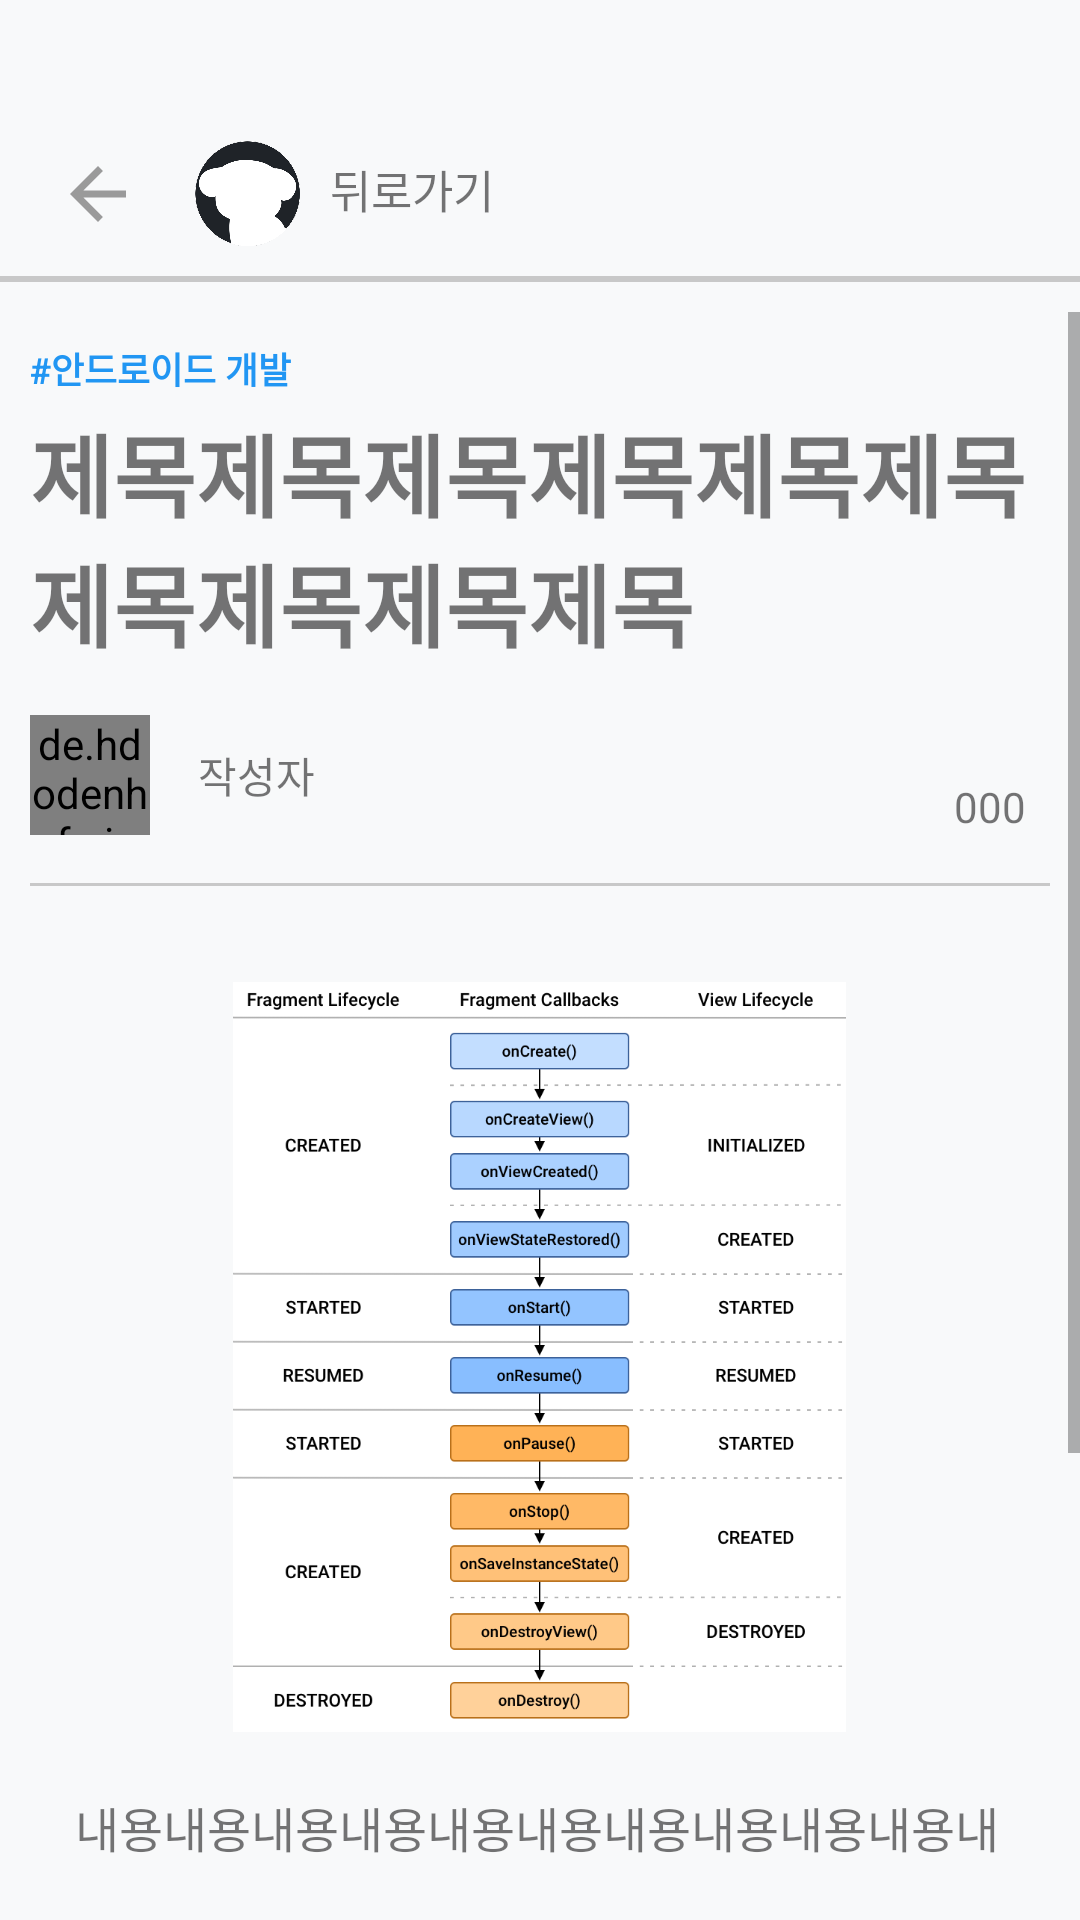

Locate icon controls on the screen. Image size 1080 x 1920, boxes as (x1=x1, y1=y1, x2=x2, y2=y2).
arrow back: (x1=70, y1=166, x2=126, y2=222)
